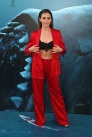female: (35, 7, 57, 34)
